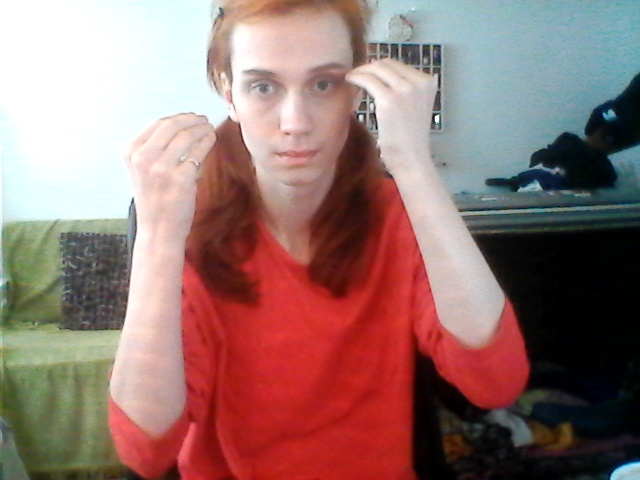ucit: (143, 35, 440, 163)
